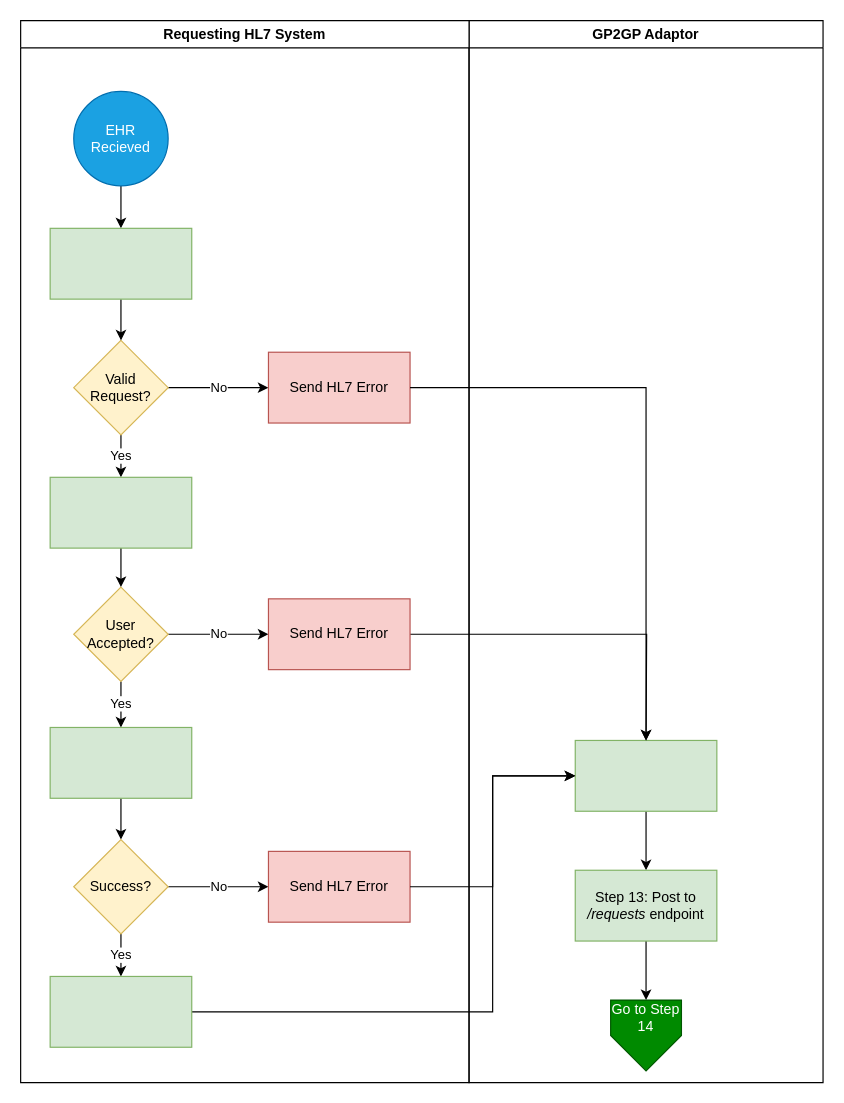
This 844x1103 diagram has some shape labels left out. Each missing label, with the centre of its shape:
Step 10: User reviews incoming record: point (120, 512)
Step 11: Integrate Record: point (120, 762)
Step 12: Provide Positive HL7 Ack: point (120, 1011)
Step 13: Process Acknowledgment: point (645, 775)
Step 9: Initial checks: point (120, 263)
